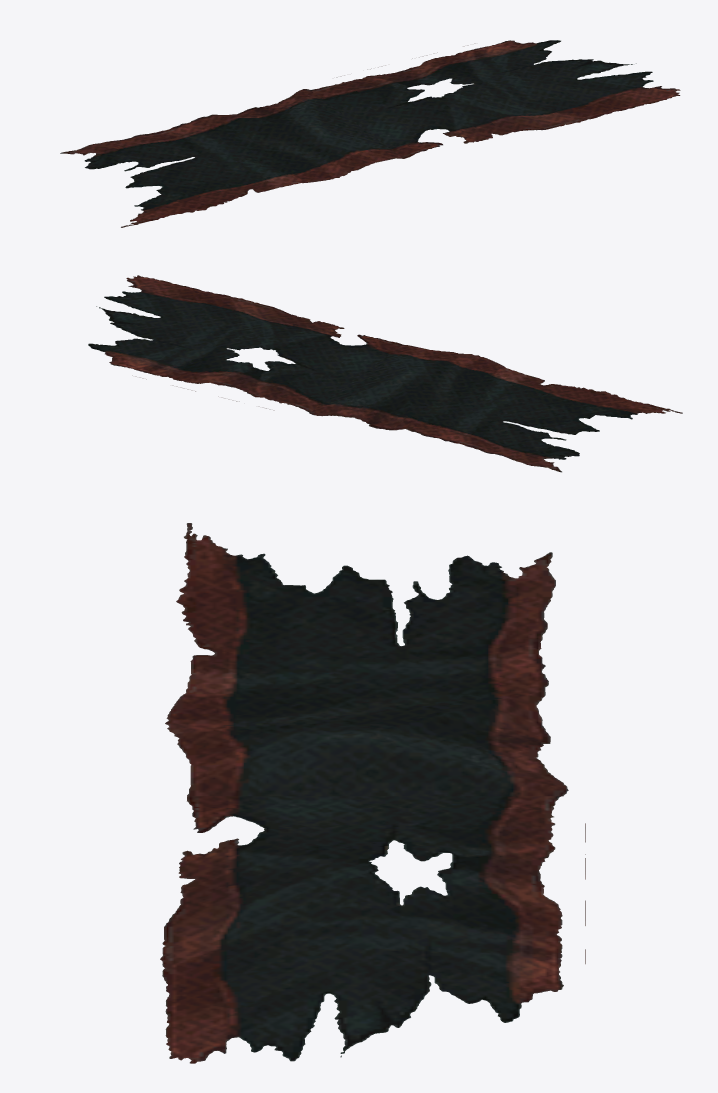
The model's file is crypt_rug01.fbx.
3 renders of one model, top to bottom at view 1: azimuth 30°, elevation 25°; view 2: azimuth 150°, elevation 25°; view 3: azimuth 270°, elevation 25°, orthographic. The views are drawn at different scales.
Parts seen in each view (by area): view 1: banners_shadow_mat; view 2: banners_shadow_mat; view 3: banners_shadow_mat.
Part boxes in pixels (x1=…): banners_shadow_mat: x1=60, y1=40, x2=680, y2=227; banners_shadow_mat: x1=88, y1=275, x2=682, y2=472; banners_shadow_mat: x1=160, y1=523, x2=585, y2=1063.
Bounding box in the file's own units: 9.05 × 0.1936 × 3.08.
